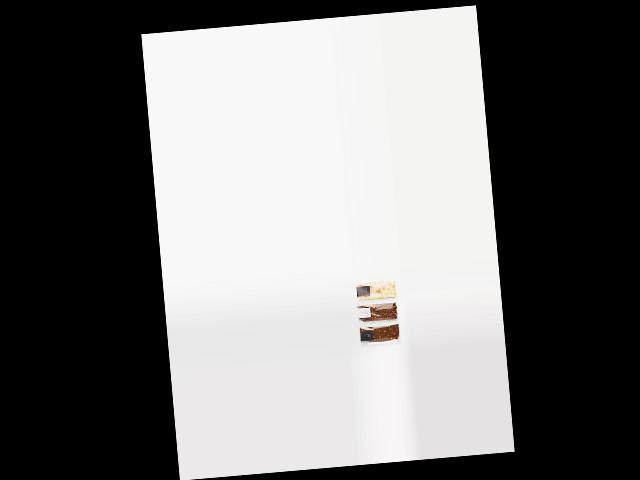chocolate: (360, 322, 404, 349)
